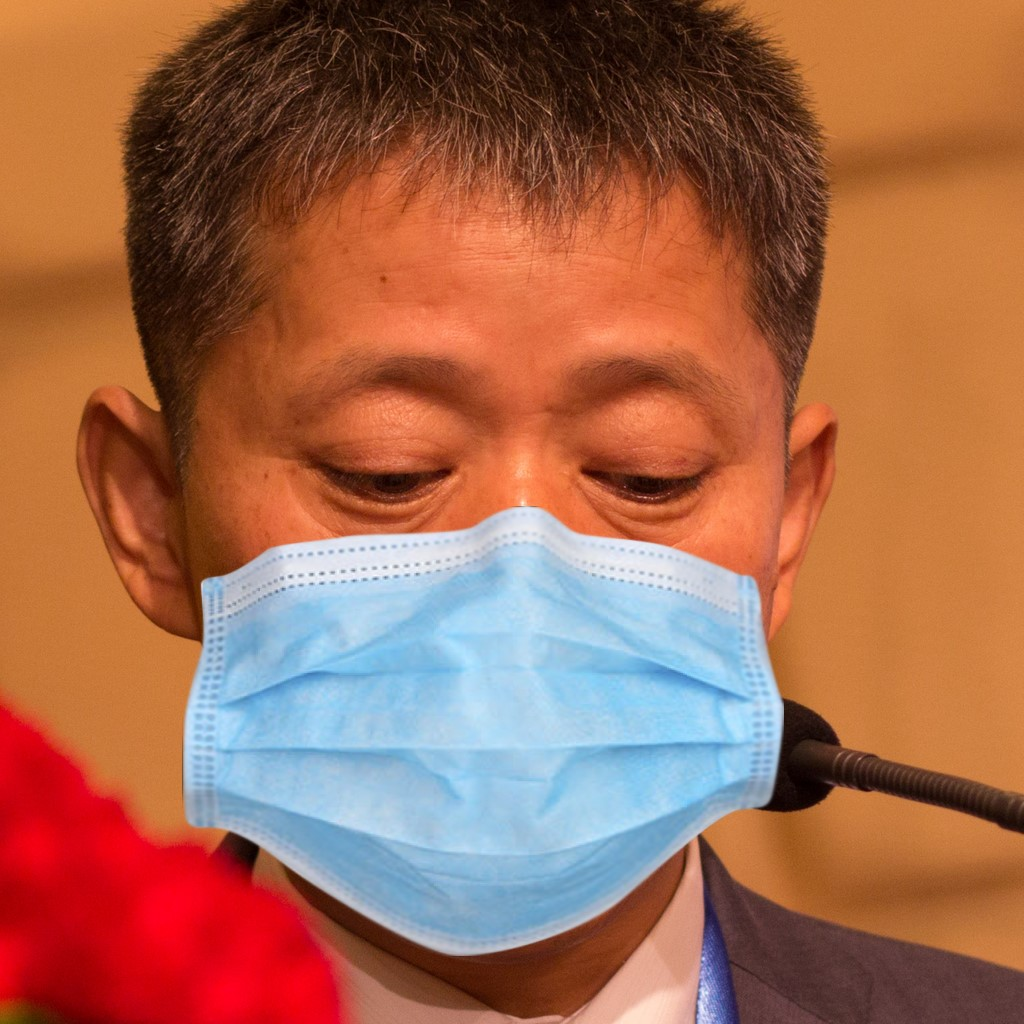con_mascara: (115, 70, 830, 923)
